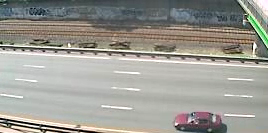car: (172, 109, 222, 133)
